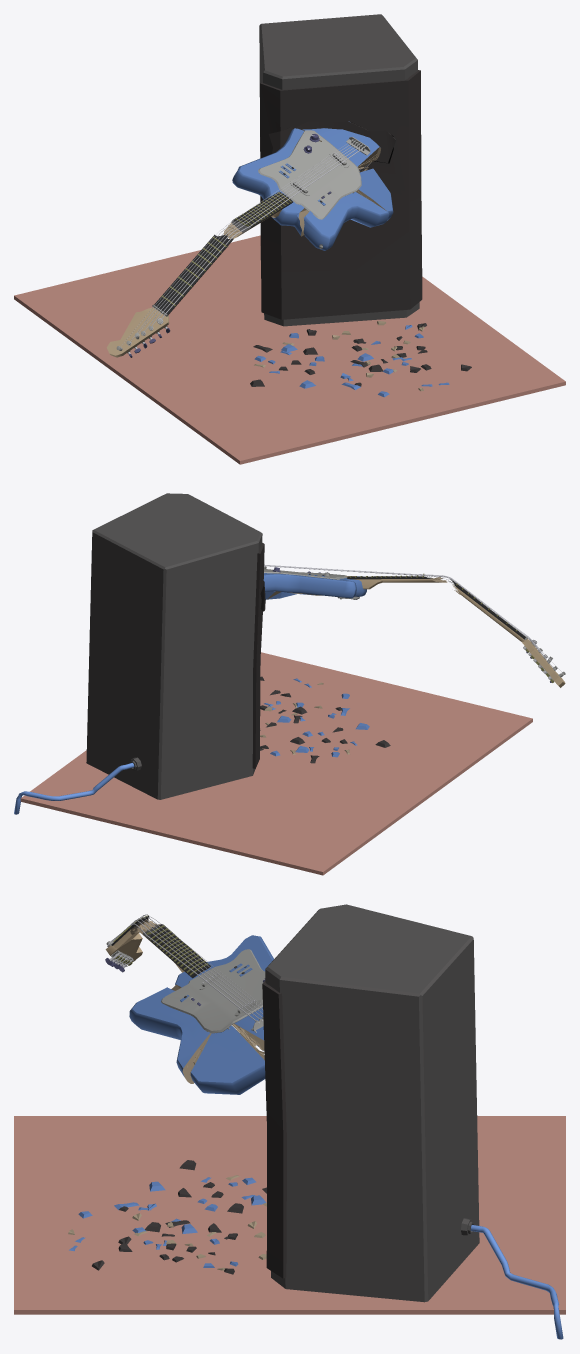
The model's file is broken_guitar.glb.
3 views of the same model, one above another, from view 1: azimuth 30°, elevation 25°; view 2: azimuth 150°, elevation 25°; view 3: azimuth 270°, elevation 25° (orthographic). The views are drawn at different scales.
Visible parts, largest first — view 1: pPlane1, pasted__polySurface20, pasted__polySurface18, pCube194, polySurface347, pCube423, polySurface566, polySurface524, pasted__polySurface14, polySurface534, polySurface404, polySurface567; view 2: pPlane1, pasted__polySurface18, polySurface347, pasted__polySurface20, pCube423, pasted__polySurface17, polySurface404, polySurface524; view 3: pasted__polySurface18, pPlane1, pasted__polySurface20, pCube194, polySurface567, pCube423, polySurface566, polySurface347, polySurface404, pasted__polySurface17.
Boxes of the visible parts, left/top/right/bottom form: pPlane1: left=14, top=235, right=565, bottom=464; pasted__polySurface20: left=260, top=70, right=422, bottom=319; pasted__polySurface18: left=259, top=14, right=419, bottom=326; pCube194: left=258, top=130, right=361, bottom=219; polySurface347: left=232, top=121, right=380, bottom=236; pCube423: left=250, top=321, right=471, bottom=397; polySurface566: left=303, top=192, right=389, bottom=250; polySurface524: left=154, top=234, right=233, bottom=315; pasted__polySurface14: left=268, top=121, right=395, bottom=162; polySurface534: left=106, top=307, right=169, bottom=357; polySurface404: left=223, top=191, right=292, bottom=238; polySurface567: left=356, top=168, right=393, bottom=220; pPlane1: left=20, top=652, right=532, bottom=875; pasted__polySurface18: left=86, top=493, right=262, bottom=799; polySurface347: left=263, top=573, right=366, bottom=598; pasted__polySurface20: left=252, top=543, right=264, bottom=768; pCube423: left=260, top=676, right=390, bottom=763; pasted__polySurface17: left=14, top=762, right=134, bottom=814; polySurface404: left=347, top=573, right=447, bottom=589; polySurface524: left=450, top=579, right=525, bottom=641; pasted__polySurface18: left=265, top=904, right=479, bottom=1302; pPlane1: left=14, top=1116, right=565, bottom=1314; pasted__polySurface20: left=262, top=981, right=286, bottom=1278; pCube194: left=161, top=949, right=265, bottom=1033; polySurface567: left=190, top=1025, right=265, bottom=1094; pCube423: left=68, top=1160, right=266, bottom=1274; polySurface566: left=129, top=987, right=211, bottom=1083; polySurface347: left=171, top=935, right=273, bottom=1051; polySurface404: left=137, top=920, right=210, bottom=978; pasted__polySurface17: left=470, top=1225, right=563, bottom=1339.
Bounding box in the file's own units: 28.46 × 17.76 × 26.66.
